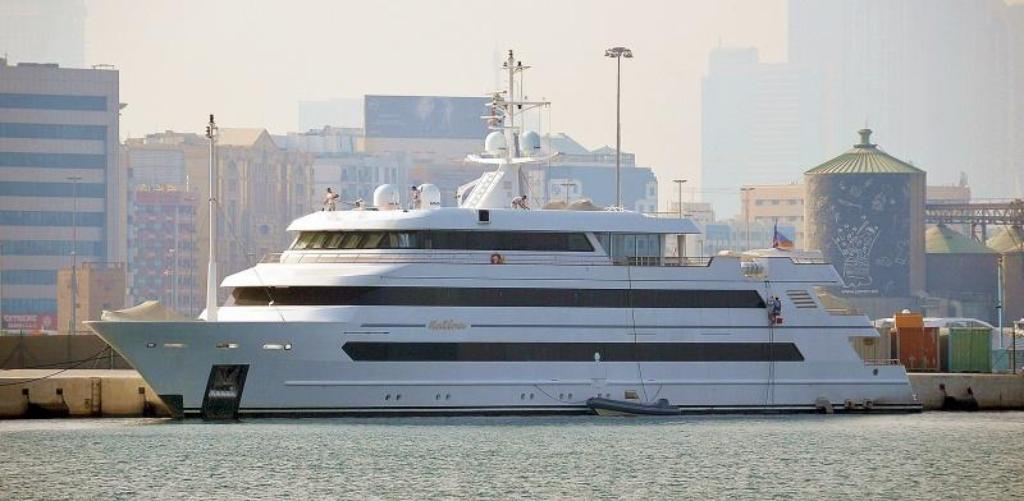PassengerShip: (76, 42, 928, 422)
